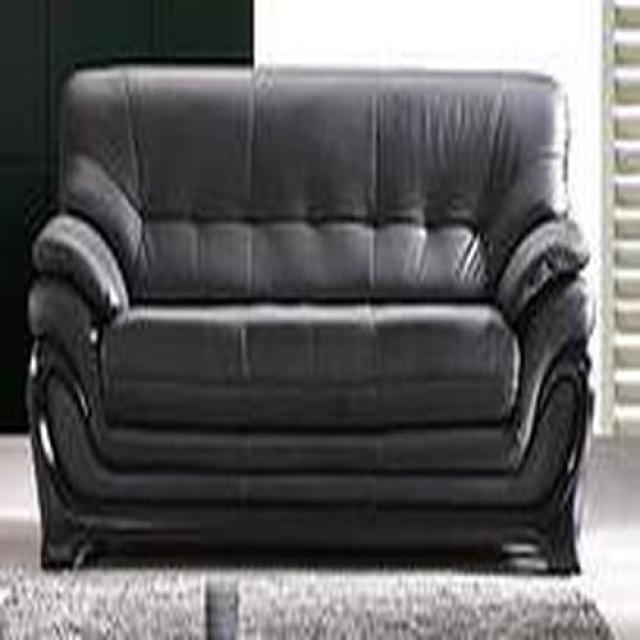sofa: (24, 59, 596, 581)
